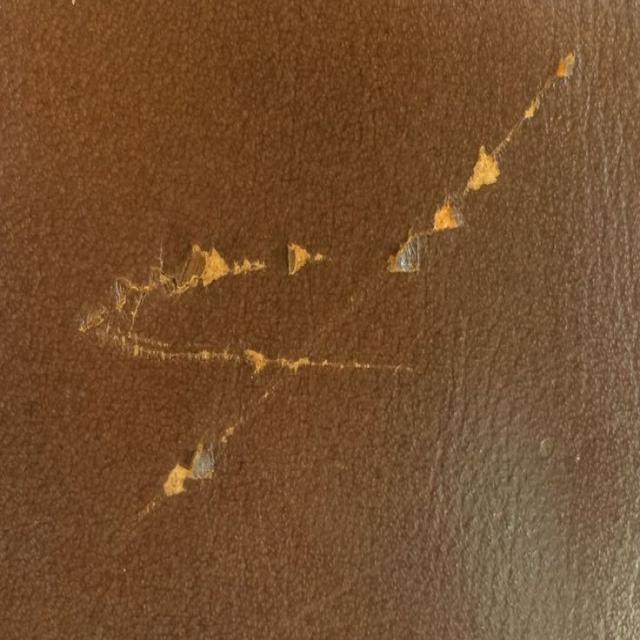Hole: (343, 164, 477, 351), (142, 376, 268, 550)
